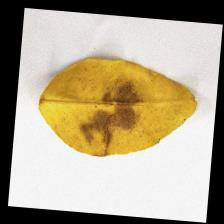black spot: (82, 83, 147, 156)
